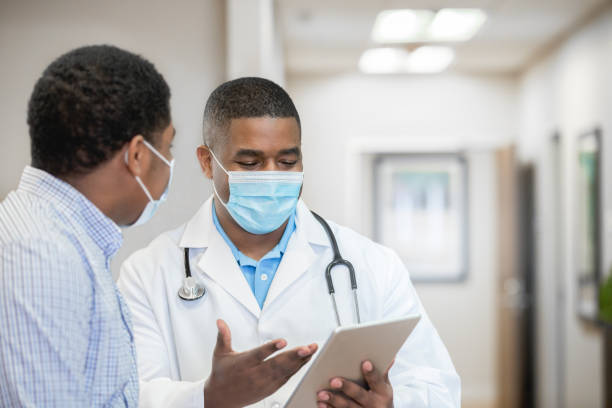with mask: (26, 50, 182, 228), (207, 76, 306, 229)
